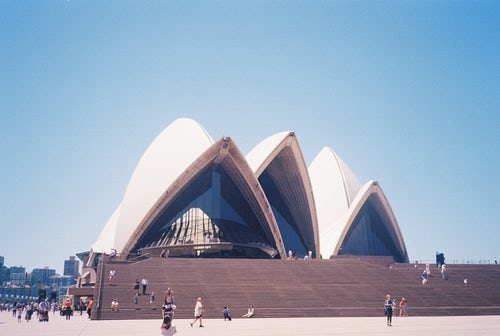opera house: (73, 99, 434, 288)
